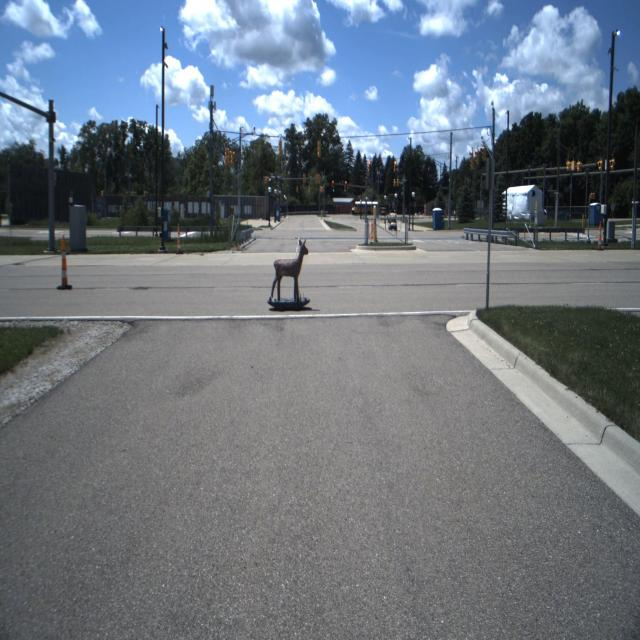Deer: (268, 238, 309, 298)
